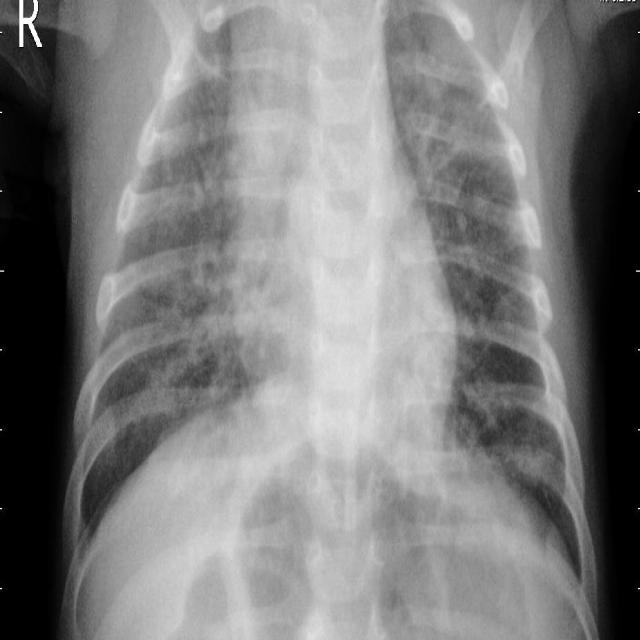low-pneumonia: (397, 43, 485, 228), (164, 235, 239, 396), (168, 37, 234, 211)
